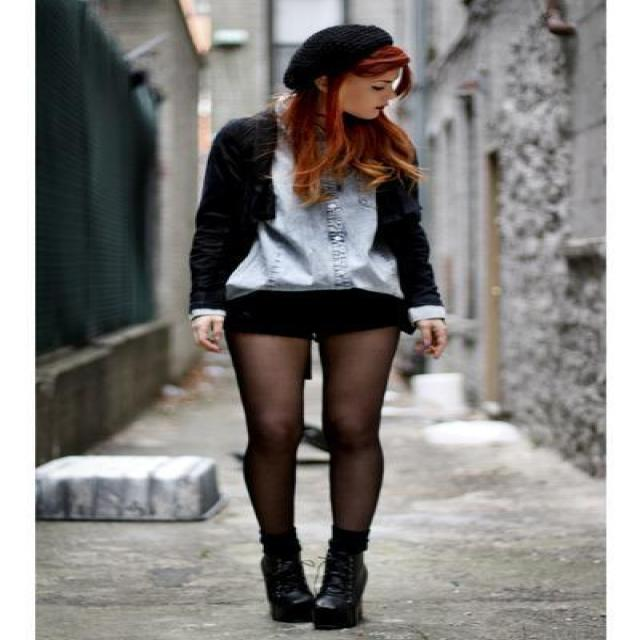hat: (288, 24, 392, 89)
jacket: (189, 117, 440, 315)
shirt: (226, 141, 402, 293)
shoe: (260, 520, 370, 630)
shorts: (222, 287, 421, 370)
